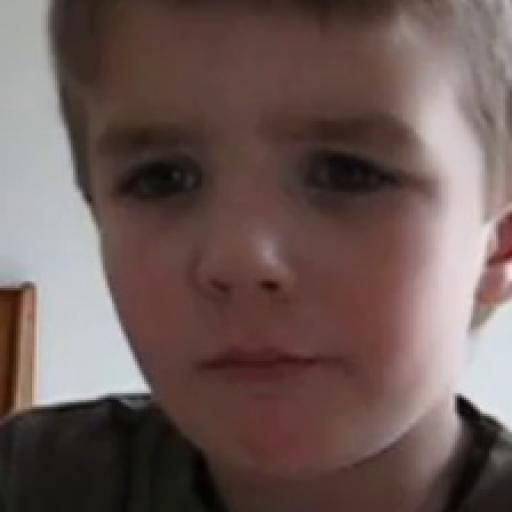Autism: (50, 8, 512, 471)
